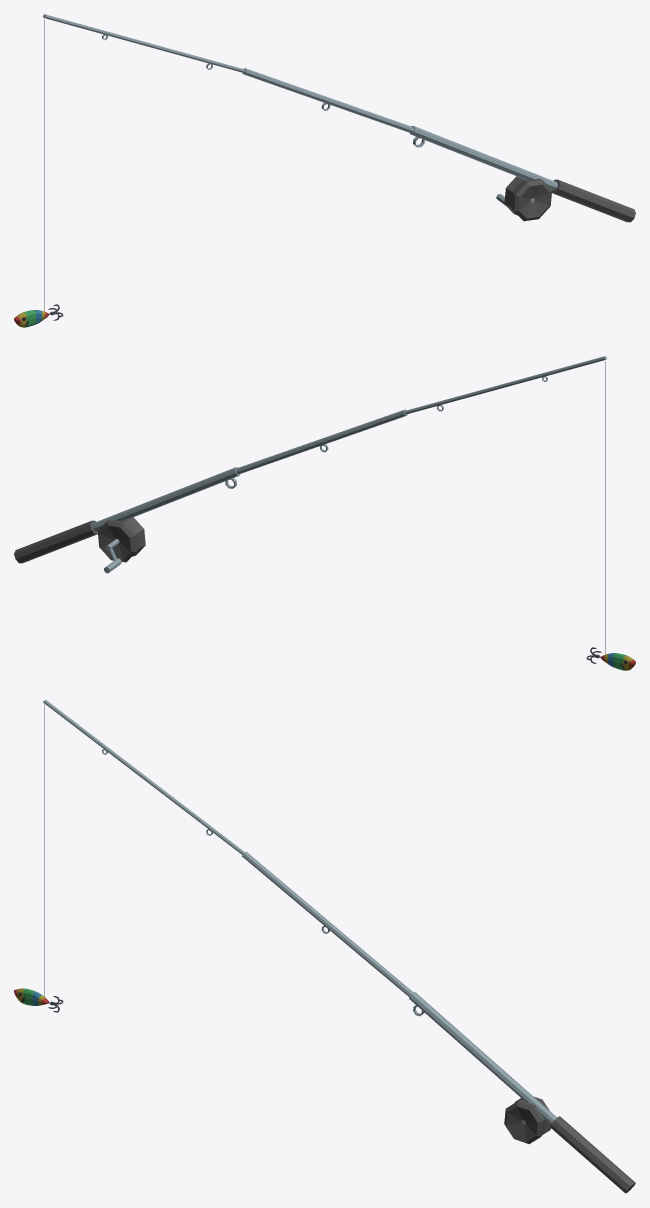
The model's file is fishing.glb.
3 views of the same model, one above another, from view 1: azimuth 30°, elevation 25°; view 2: azimuth 150°, elevation 25°; view 3: azimuth 330°, elevation 25° (orthographic).
Visible parts, largest first — view 1: fish_rod, Lure_4; view 2: fish_rod, Lure_4; view 3: fish_rod.
Boxes of the visible parts, box(x1,y1,x2,y2) form: fish_rod: box(43, 14, 635, 222); Lure_4: box(14, 304, 63, 327); fish_rod: box(14, 356, 606, 573); Lure_4: box(586, 647, 635, 670); fish_rod: box(43, 699, 635, 1193).
Size of the model in its own units: 19.04 by 10.25 by 1.51.
